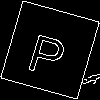P: (25, 25, 71, 78)
